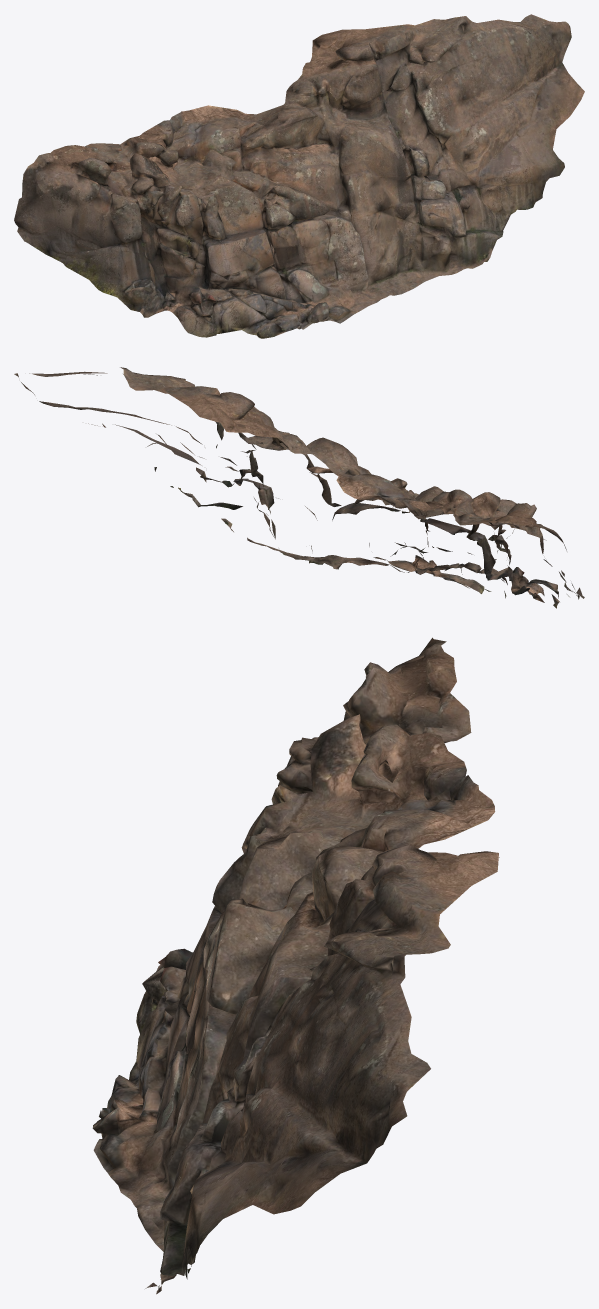
Rendered from hill_cliff.glb.
3 renders of one model, top to bottom at view 1: azimuth 30°, elevation 25°; view 2: azimuth 150°, elevation 25°; view 3: azimuth 270°, elevation 25°, orthographic. The views are drawn at different scales.
Visible parts, largest first — view 1: hill_cliff; view 2: hill_cliff; view 3: hill_cliff.
Boxes of the visible parts, x1,y1,x2,y2 form: hill_cliff: [14, 14, 584, 338]; hill_cliff: [14, 367, 584, 608]; hill_cliff: [92, 637, 499, 1294].
Bounding box in the file's own units: 20.22 × 7.17 × 6.58.
1 material, 1 textured.
